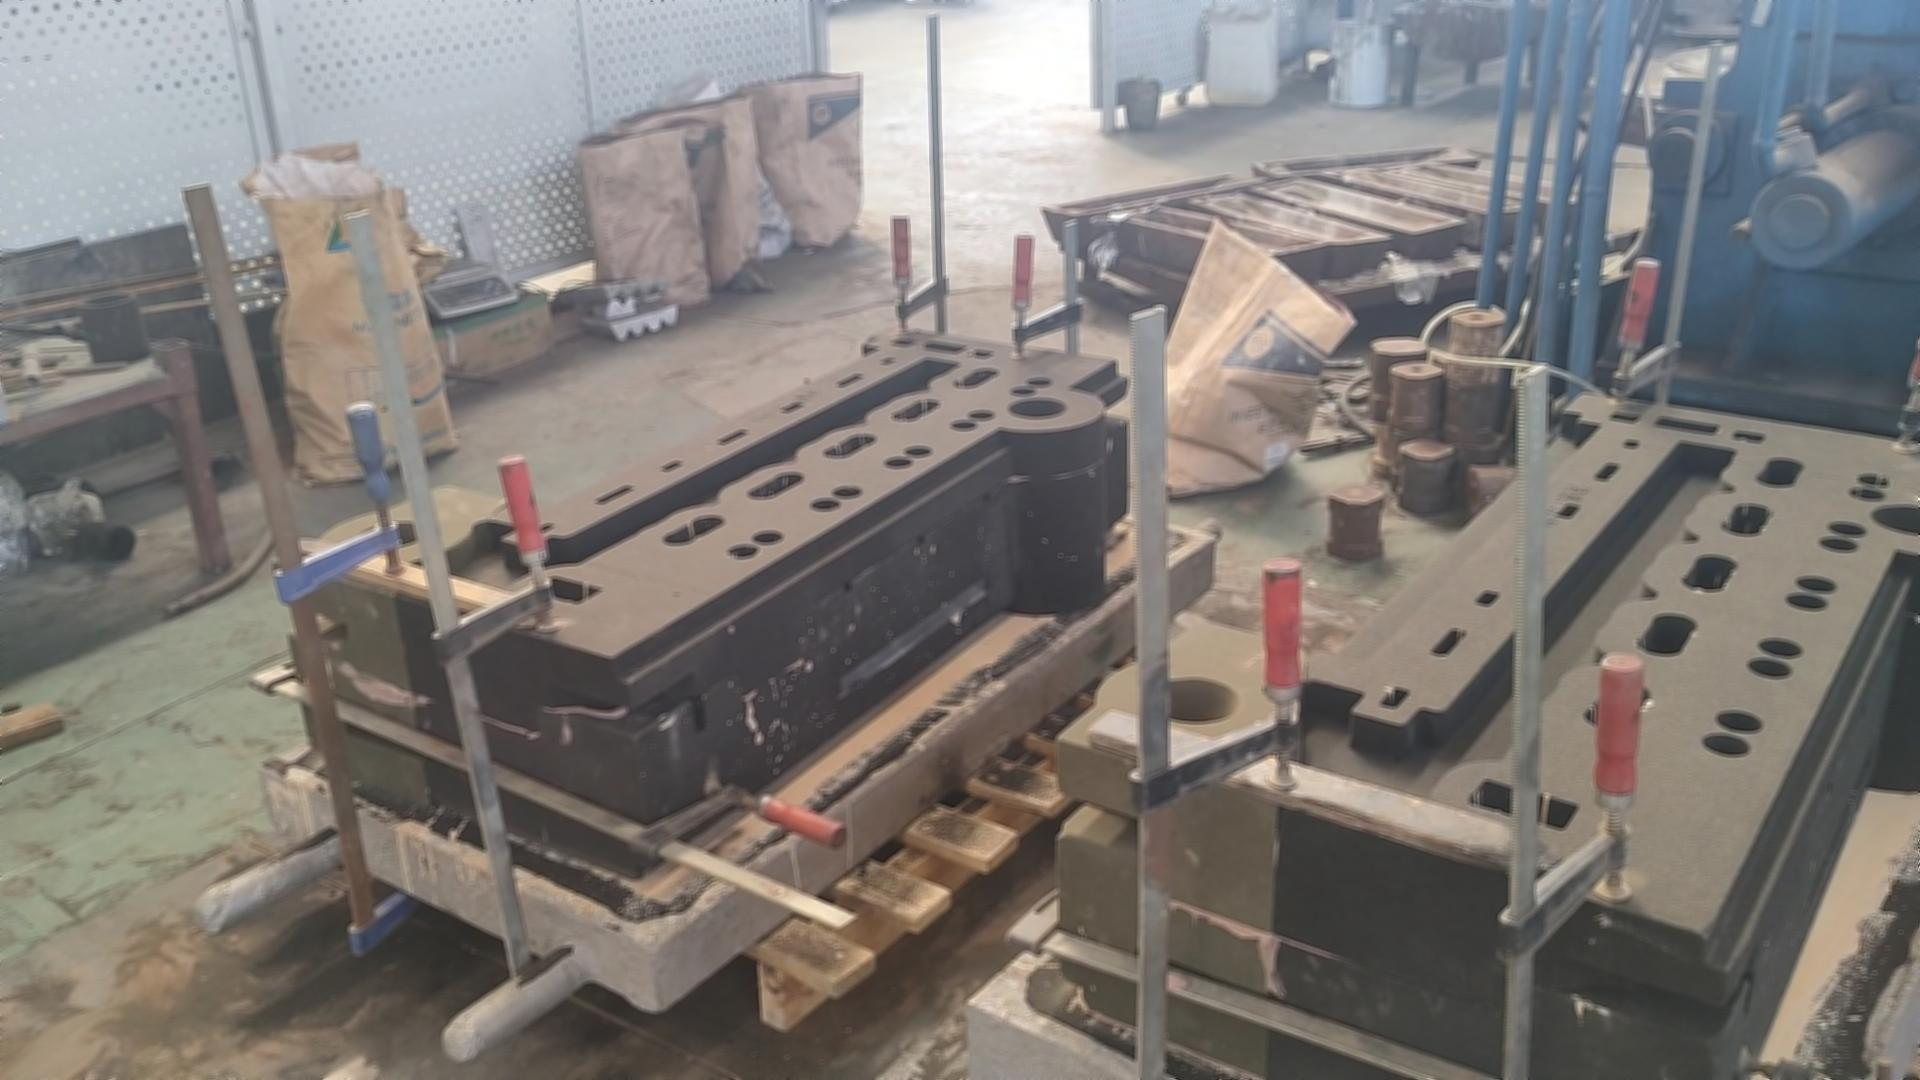pouring hole: (1149, 678, 1241, 723), (355, 521, 434, 549), (1873, 502, 1920, 535), (1007, 398, 1065, 417), (78, 291, 136, 309)
